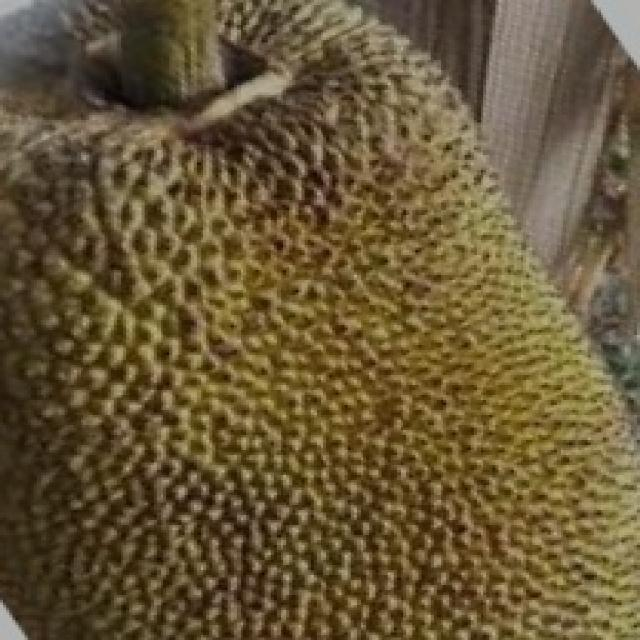Fruit: (0, 255, 391, 640), (243, 0, 628, 338)
